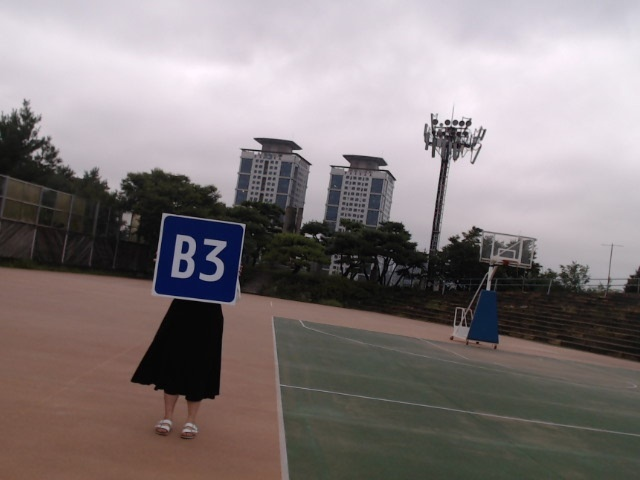delivery_b3: (154, 215, 243, 303)
